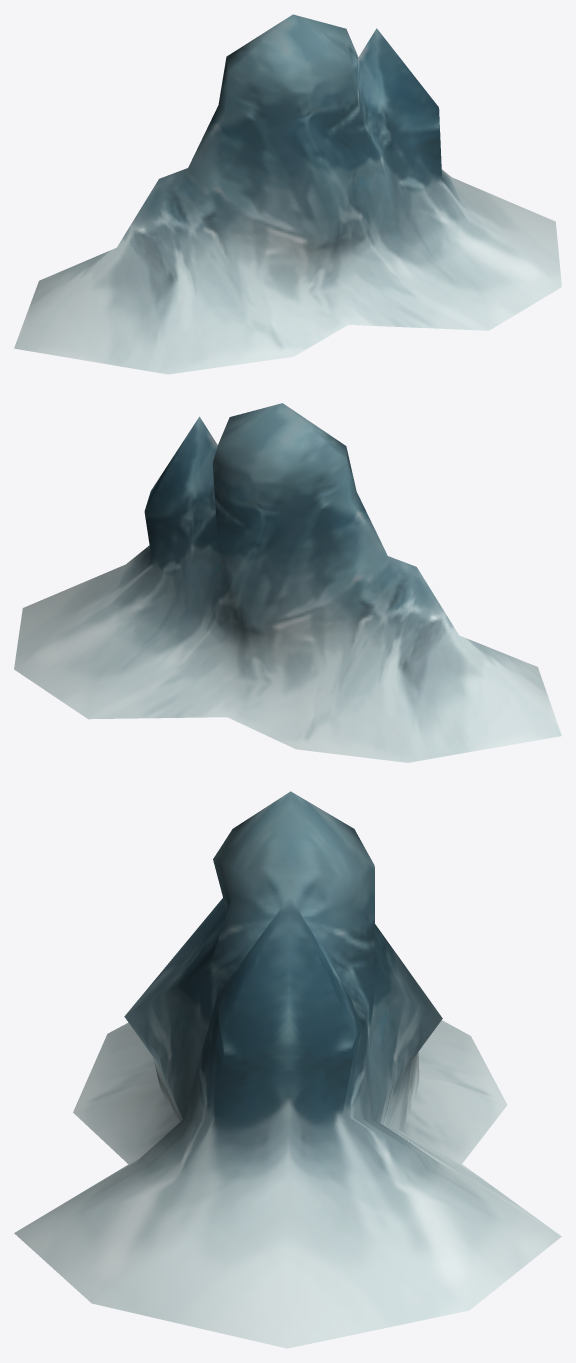
The model's file is 3-1_shizhu1.FBX.
3 views of the same model, one above another, from view 1: azimuth 30°, elevation 25°; view 2: azimuth 150°, elevation 25°; view 3: azimuth 270°, elevation 25° (orthographic). The views are drawn at different scales.
Parts seen in each view (by area): view 1: 3-1_shizhu1; view 2: 3-1_shizhu1; view 3: 3-1_shizhu1.
Part boxes in pixels (x1,y1,x2,y2): 3-1_shizhu1: (14,14,561,374); 3-1_shizhu1: (14,403,561,762); 3-1_shizhu1: (14,791,561,1348).
Size of the model in its own units: 512 by 245 by 321.
